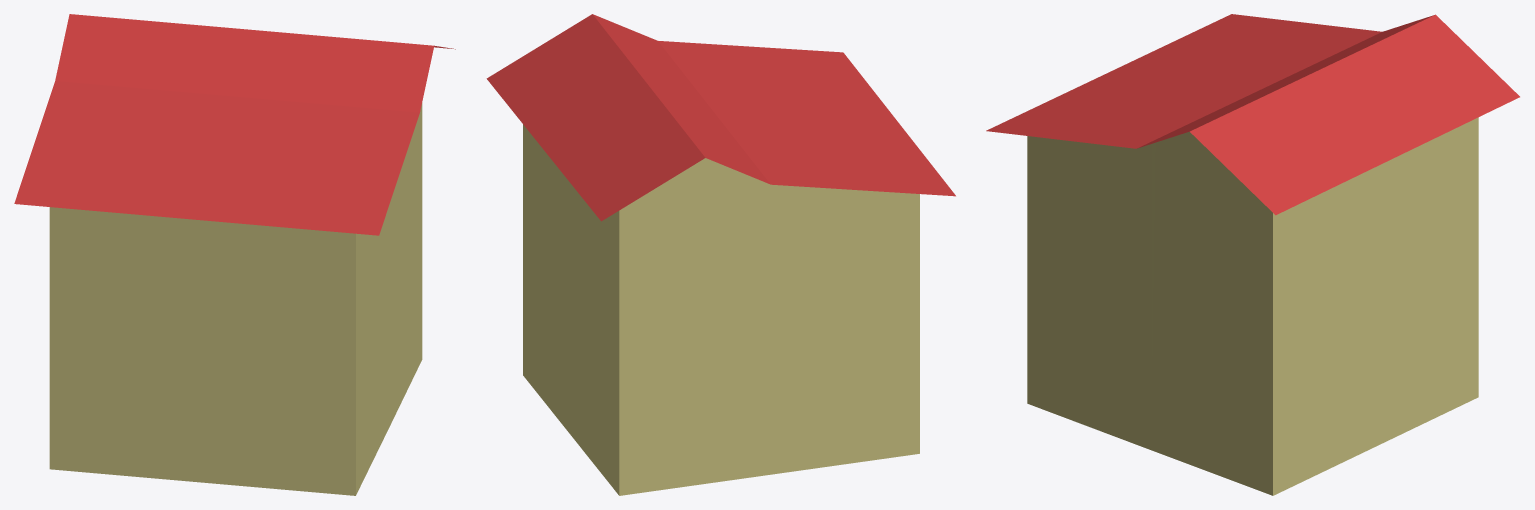
3 views of the same model, side by side, from view 1: azimuth 30°, elevation 25°; view 2: azimuth 150°, elevation 25°; view 3: azimuth 270°, elevation 25° (orthographic). The views are drawn at different scales.
Bounding box in the file's own units: 9 × 9.01 × 6.5.
